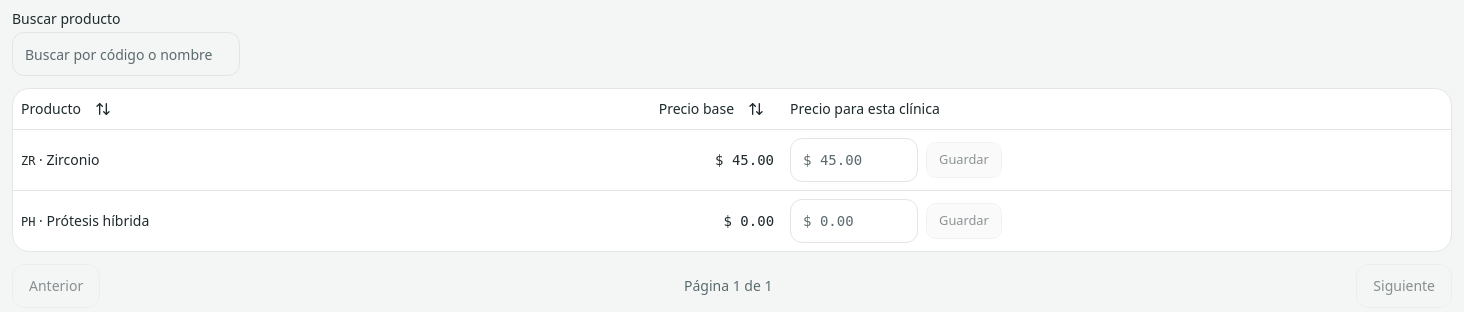
Test: ClinicPricesTable › un precio escrito antes de filtrar se conserva al quitar el filtro
Expected: the text "ZR · Zirconio" is shown, [21,150,100,168]
Type "50.00" into the field named "Precio especial de Zirconio".
click(854, 160); type("50.00")  # box [790,138,918,182]
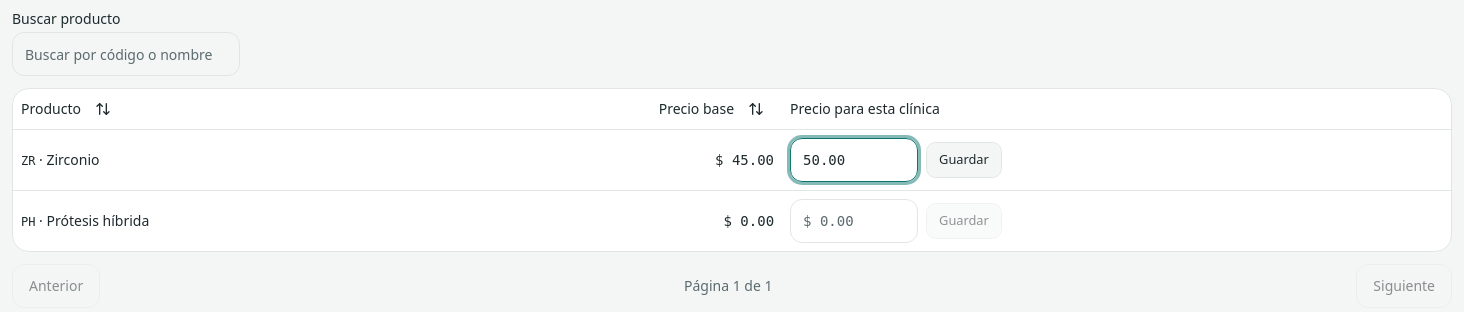
Type "hibrida" into the search field labelled "Buscar producto".
click(126, 54); type("hibrida")  # box [12,32,240,76]
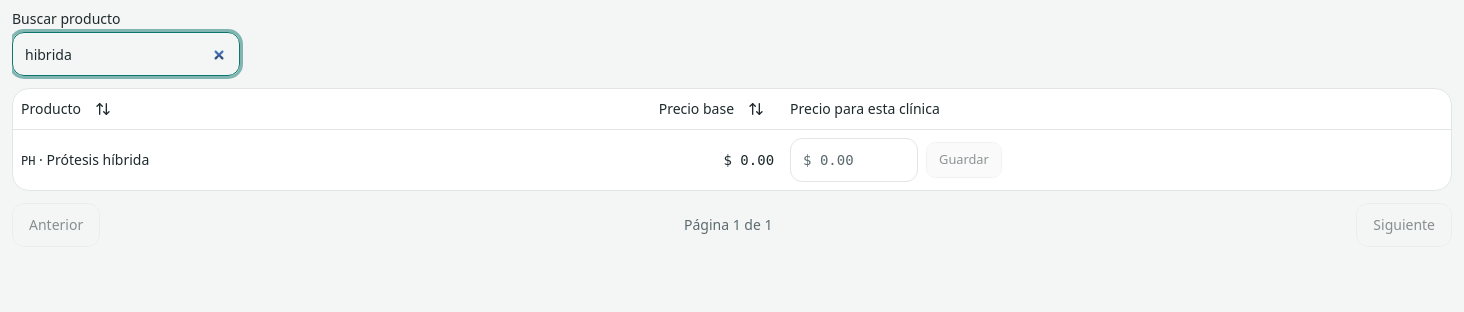
Expected: the text "Zirconio" is gone
Clear the search field labelled "Buscar producto" at (126, 54), box [12,32,240,76]
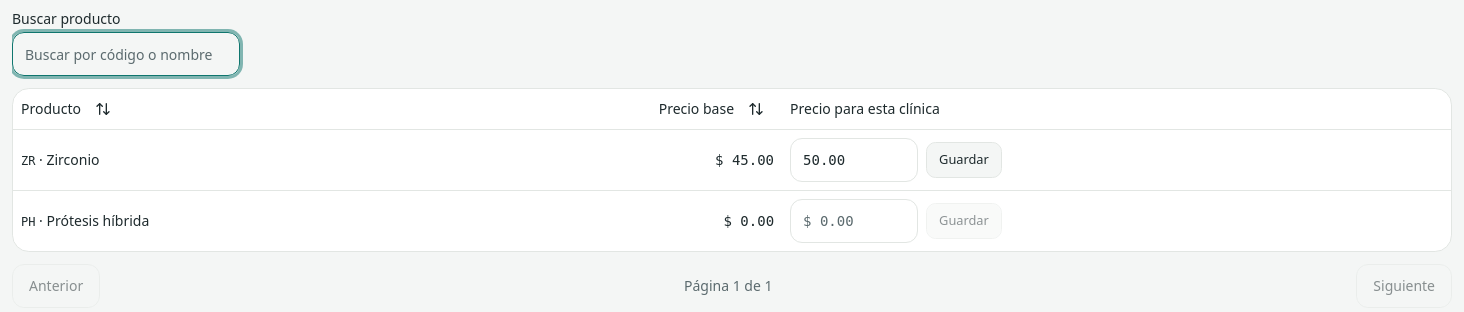
Expected: the field named "Precio especial de Zirconio" holds "50.00", [790,138,918,182]
